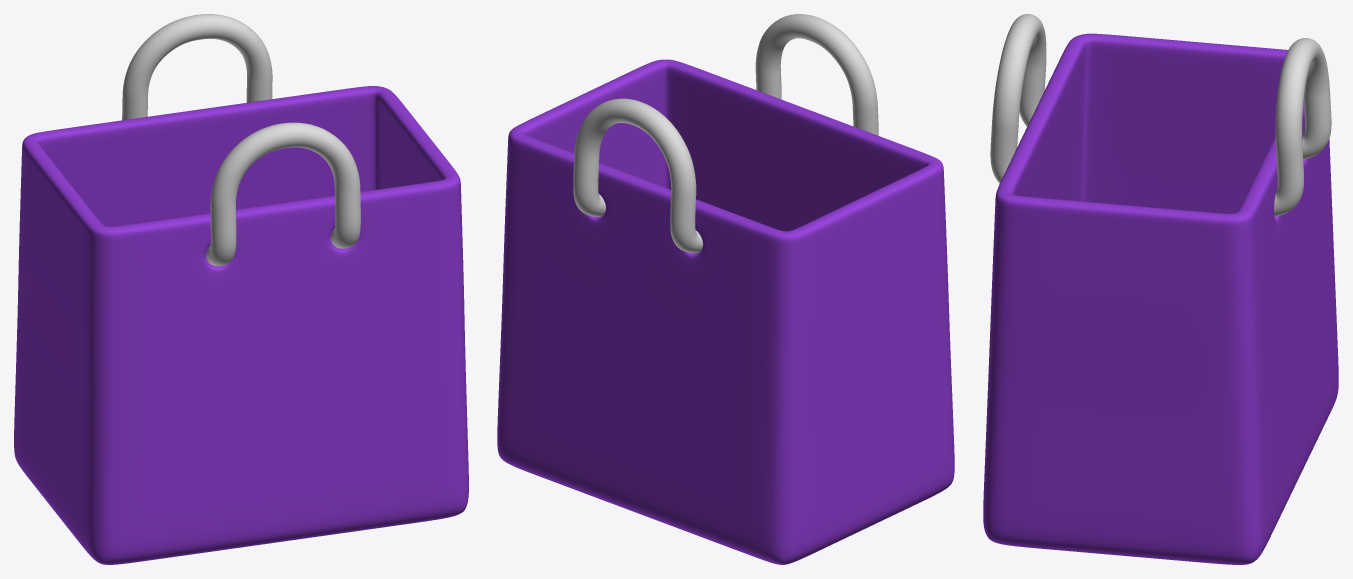
File: bag.fbx
The picture shows the model from 3 angles, left to right: view 1: azimuth 30°, elevation 25°; view 2: azimuth 150°, elevation 25°; view 3: azimuth 270°, elevation 25°; orthographic projection. The views are drawn at different scales.
Visible parts, largest first — view 1: Bag-Box; view 2: Bag-Box; view 3: Bag-Box.
Part boxes in pixels (x1,y1,x2,y2): Bag-Box: [14, 14, 468, 564]; Bag-Box: [497, 14, 954, 564]; Bag-Box: [983, 14, 1338, 564].
Size of the model in its own units: 180 by 192 by 139.
